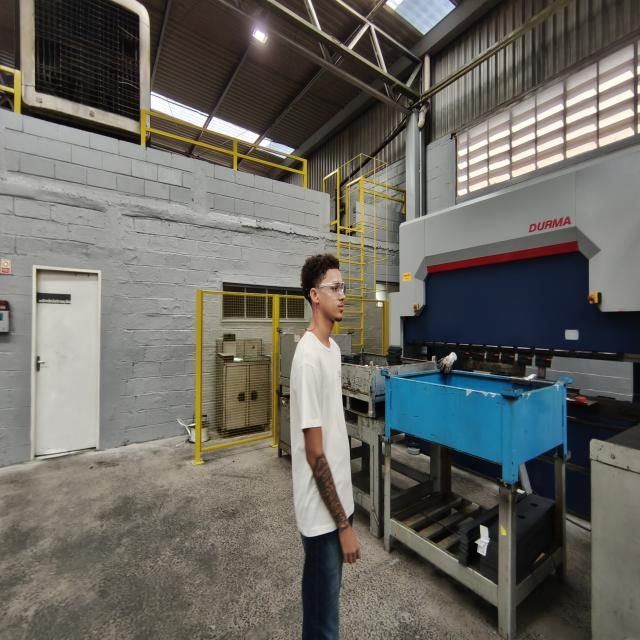oculos-epi: (314, 282, 345, 299), (308, 293, 311, 297)
